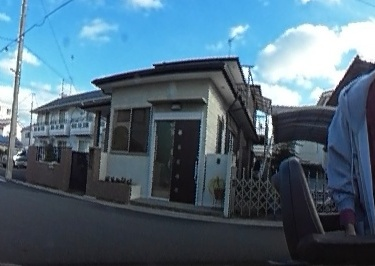person: (327, 11, 375, 248)
